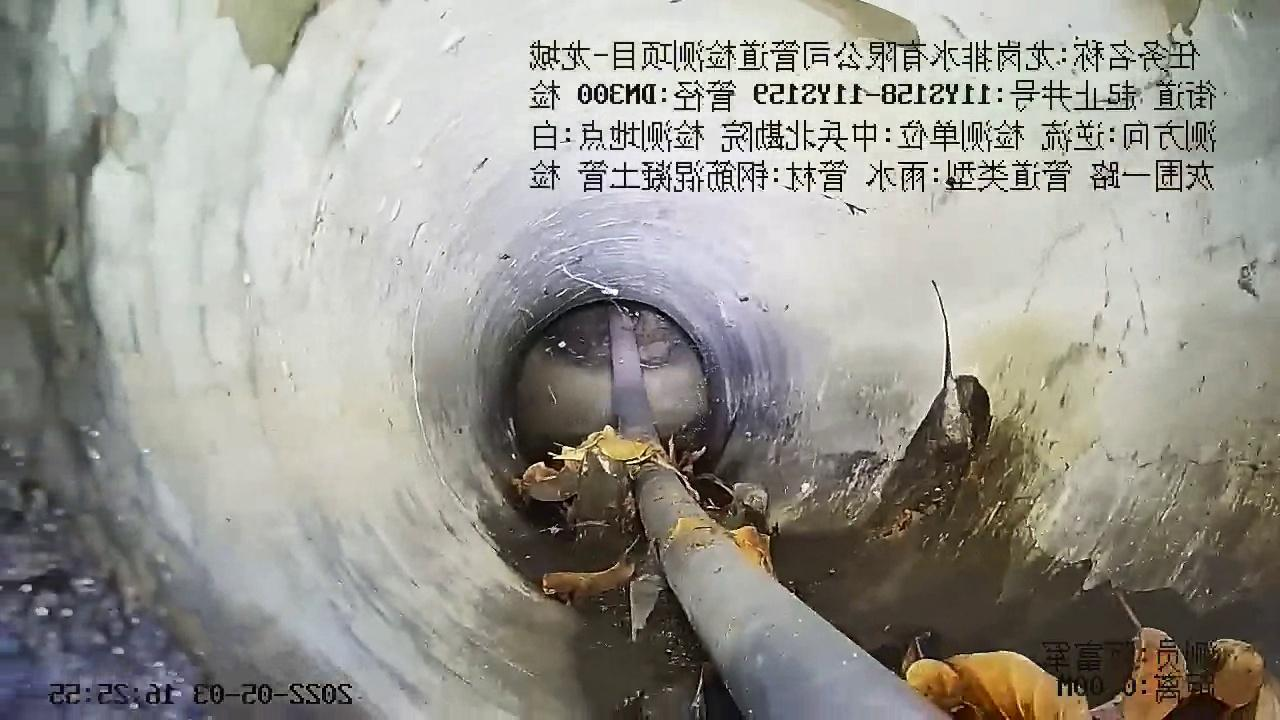YWCR: (635, 455, 950, 719), (609, 314, 663, 452)
